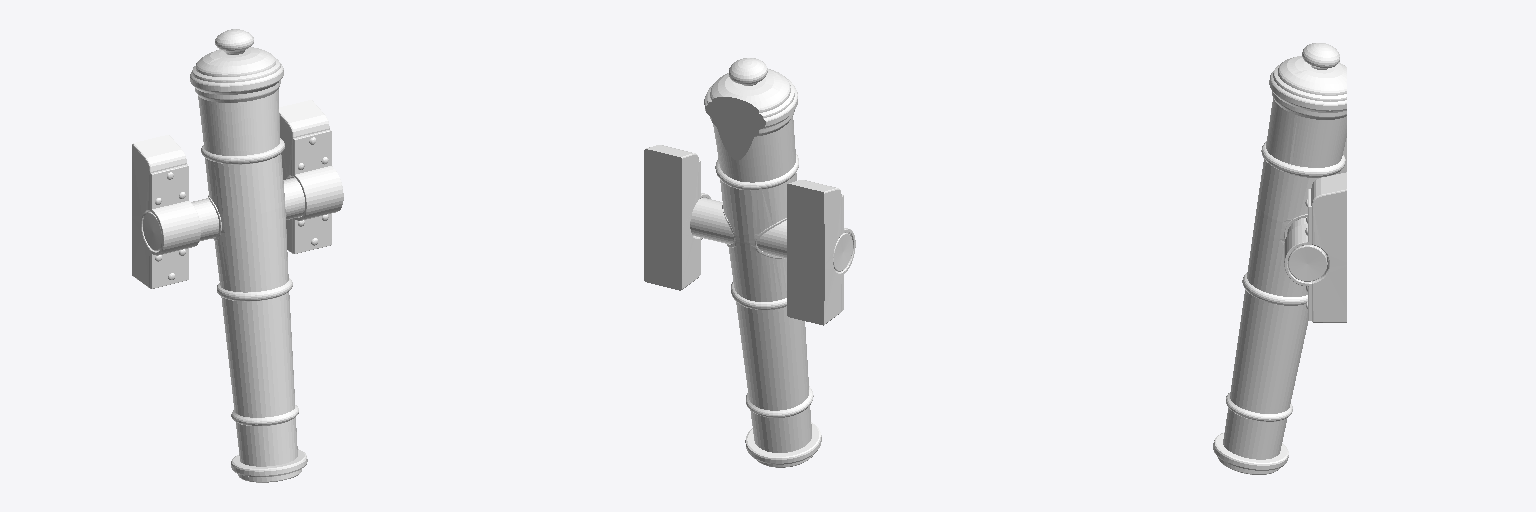
File: cannon.obj
3 renders of one model, left to right at view 1: azimuth 30°, elevation 25°; view 2: azimuth 150°, elevation 25°; view 3: azimuth 270°, elevation 25°, orthographic.
Visible parts, largest first — view 1: Object.1; view 2: Object.1; view 3: Object.1.
Part boxes in pixels (left/top/right/bottom): Object.1: left=132, top=29, right=343, bottom=482; Object.1: left=644, top=58, right=855, bottom=467; Object.1: left=1213, top=43, right=1346, bottom=474.
Size of the model in its own units: 5434 by 12096 by 3499.